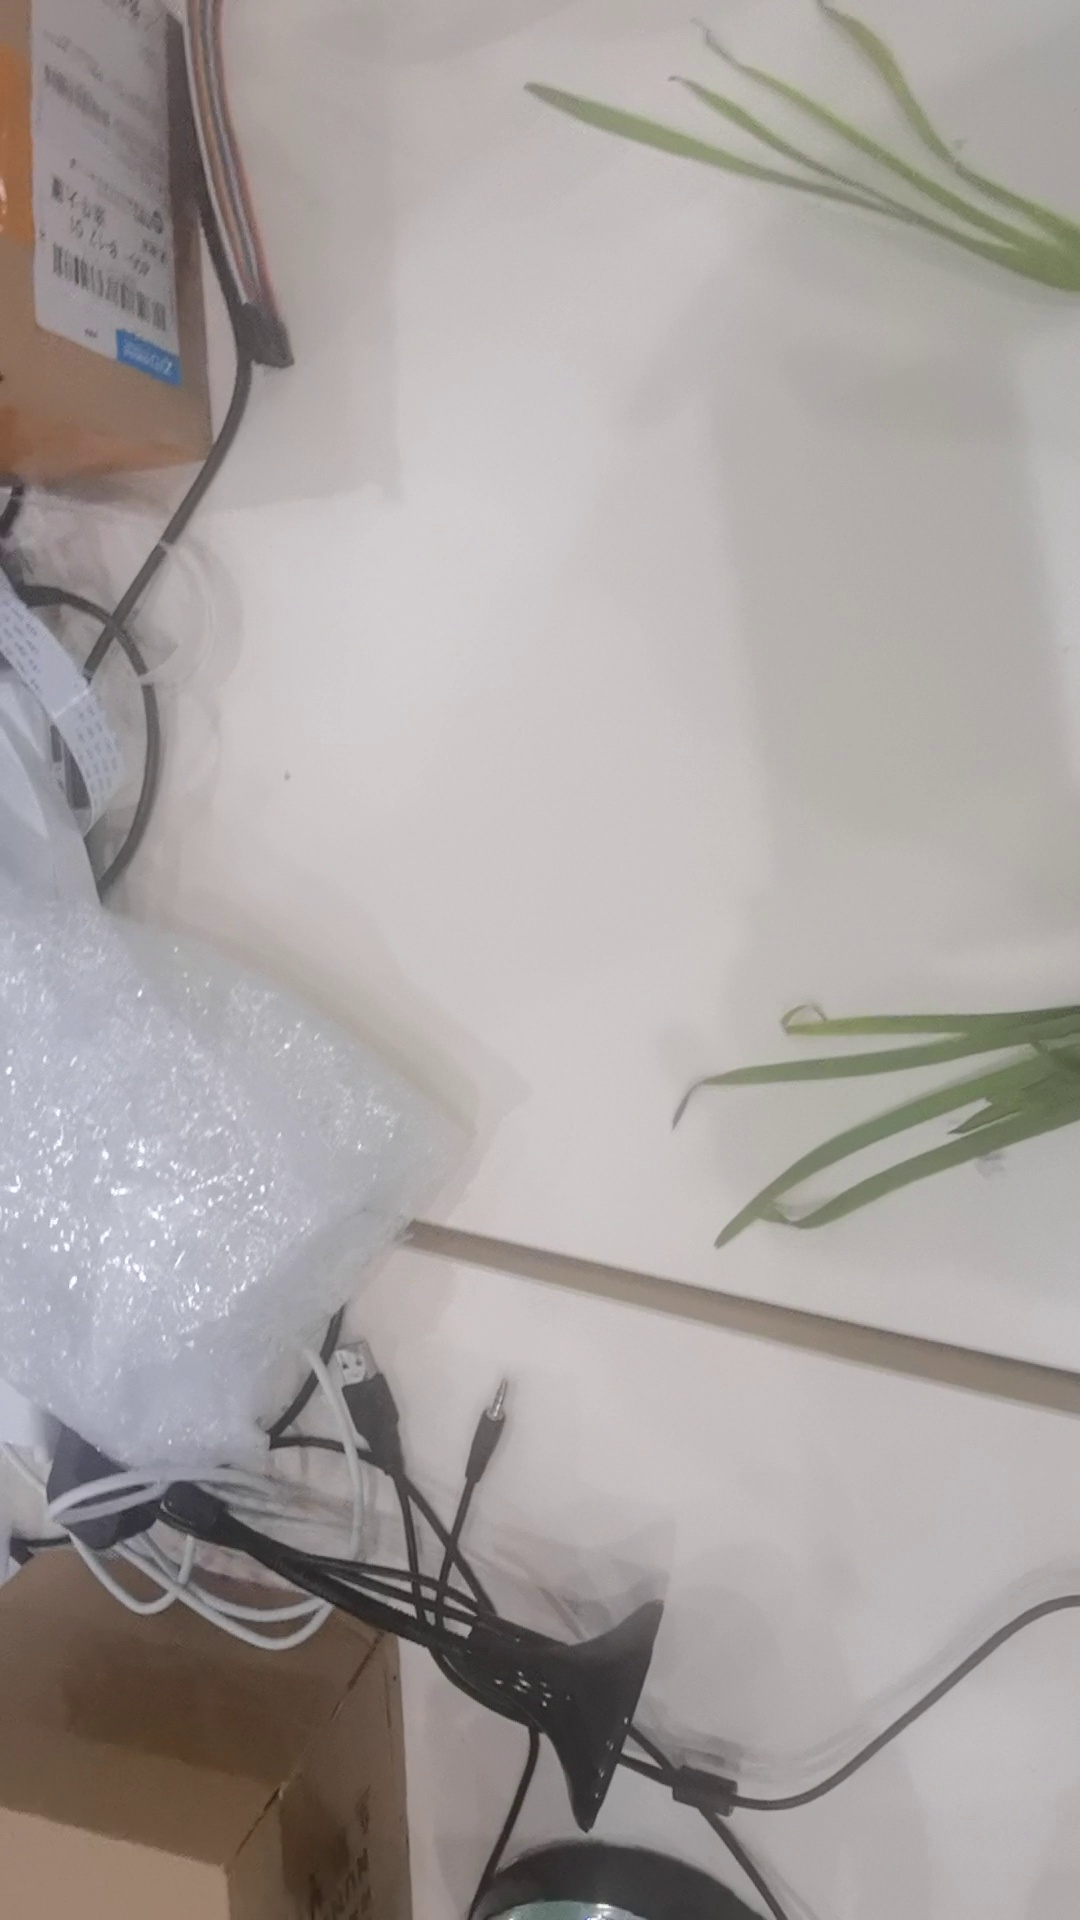chives: (512, 19, 1080, 296)
